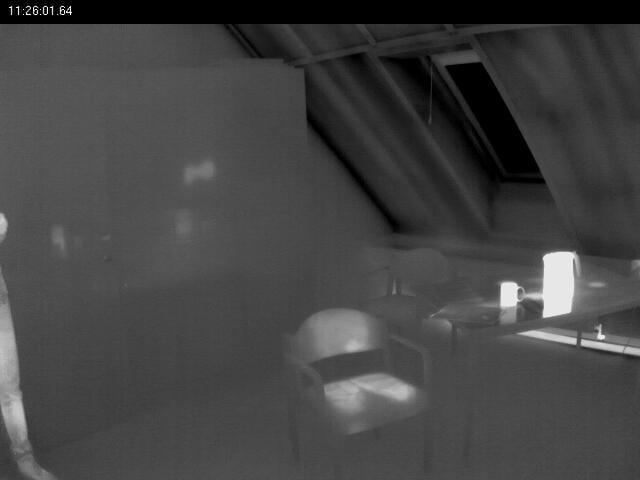person: (1, 210, 54, 480)
